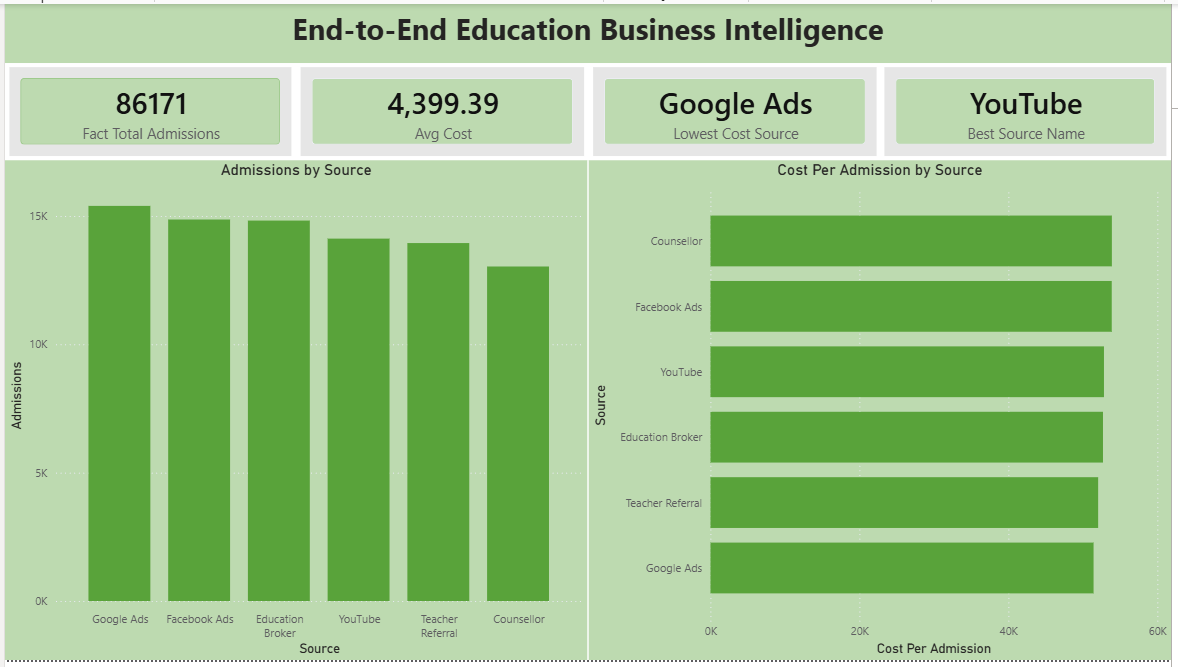

The dashboard page shown, as its layout file describes it:
{"tool":"powerbi","page":{"name":"Admissions Analysis","canvas":[1280,720],"ordinal":2},"visuals":[{"type":"cardVisual","fields":{"Data":["Fact_Admissions_Monthly.Fact Total Admissions"]},"box":[0,64.5,319.7,107],"z":0},{"type":"cardVisual","fields":{"Data":["Fact_Admissions_Monthly.Avg Cost"]},"box":[319.7,64.5,321.1,107],"z":1000},{"type":"cardVisual","fields":{"Data":["Fact_Admissions_Monthly.Best Source Name"]},"box":[960.3,64.5,319.7,107],"z":2000},{"type":"cardVisual","fields":{"Data":["Fact_Admissions_Monthly.Fact Monthly Lowest Cost Source"]},"box":[640.8,64.5,321.1,107],"z":3000},{"type":"textbox","box":[0,0,1280.3,64.5],"z":4000},{"type":"columnChart","title":"Admissions by Source","fields":{"Category":["Fact_Admissions_Monthly.Source"],"Y":["Sum(Fact_Admissions_Monthly.Admissions)"]},"box":[0,171.5,639.5,548.9],"z":5000},{"type":"clusteredBarChart","fields":{"Category":["Fact_Admissions_Monthly.Source"],"Y":["Sum(Fact_Admissions_Monthly.AvgCostPerAdmission)"]},"box":[640.5,171.1,639.5,548.9],"z":6000}]}

Visuals, with their boxes in screenshot pixels (x1, y1, x2, y2), scaled from the page's 1280x720 canvas onto the 1178x667 screenshot:
cardVisual - Fact_Admissions_Monthly.Fact Total Admissions: (0,60,294,159)
cardVisual - Fact_Admissions_Monthly.Avg Cost: (294,60,590,159)
cardVisual - Fact_Admissions_Monthly.Best Source Name: (884,60,1177,159)
cardVisual - Fact_Admissions_Monthly.Fact Monthly Lowest Cost Source: (590,60,885,159)
textbox: (0,0,1177,60)
"Admissions by Source" columnChart: (0,159,589,666)
clusteredBarChart - Fact_Admissions_Monthly.Source x Sum(Fact_Admissions_Monthly.AvgCostPerAdmission): (589,159,1177,666)
